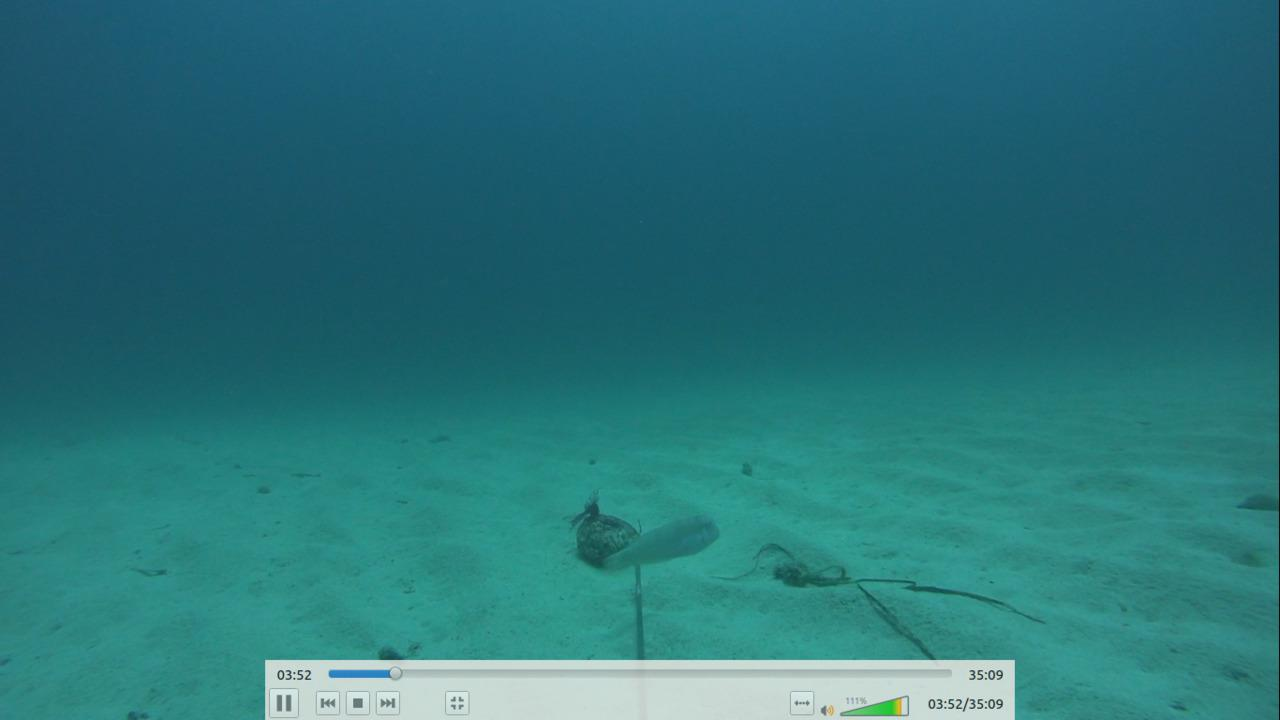raor: (606, 510, 719, 572)
